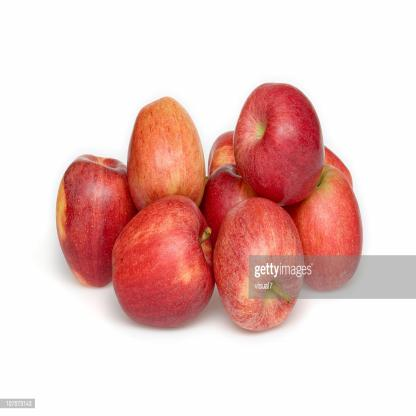Apple: (209, 188, 306, 333), (109, 201, 214, 324), (237, 77, 331, 197), (121, 96, 218, 202)
